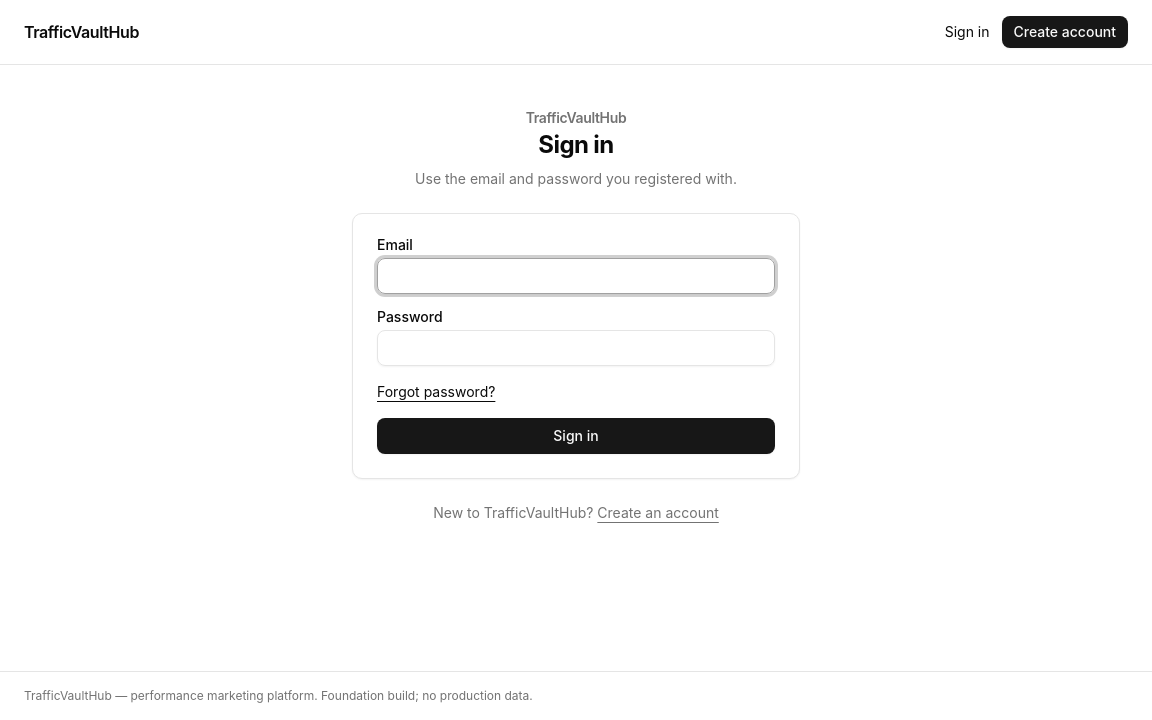
Test case: auth pages › /login › shows the server error for invalid credentials and keeps the user signed out
Type "alice@example.com" into the field labelled "Email" at (576,276), box [377, 258, 775, 294]
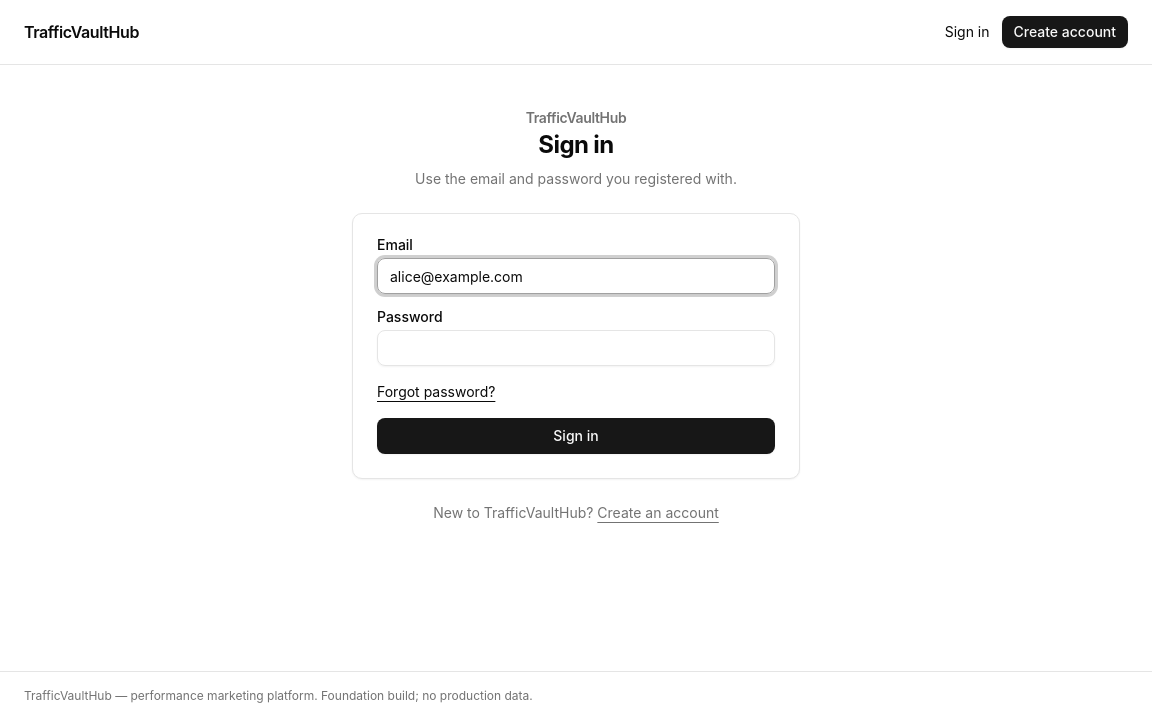
Type "wrong-password" into the password field labelled "Password" at (576,348), box [377, 330, 775, 366]
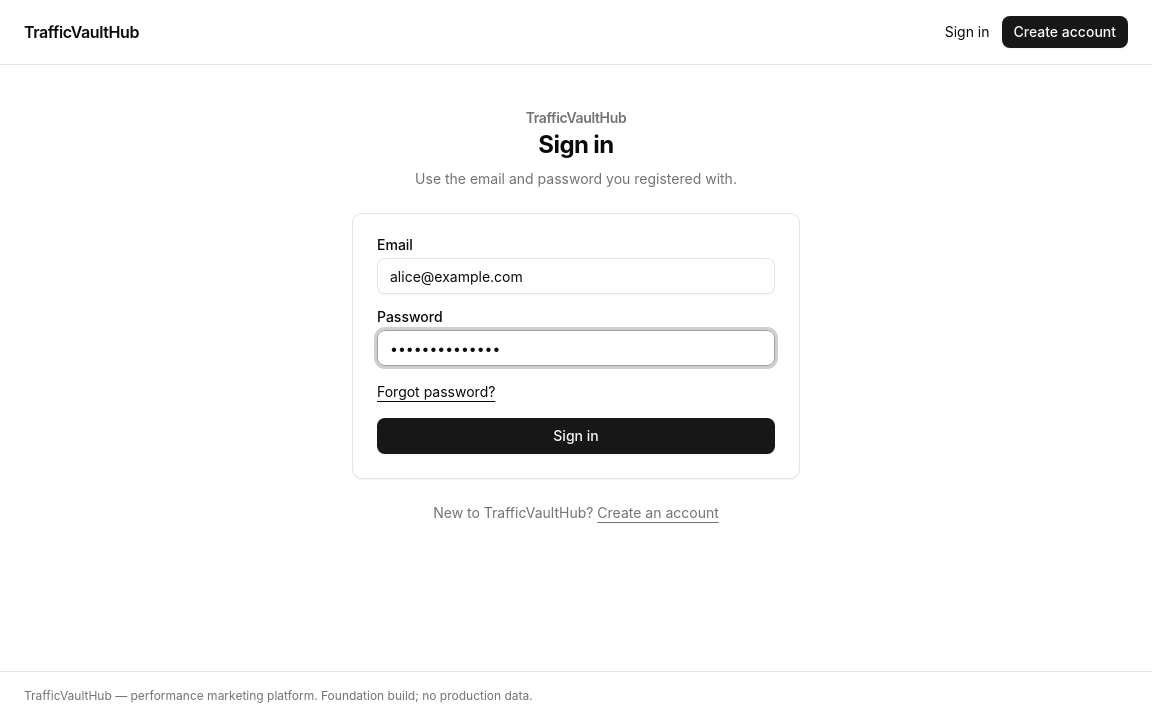
Click the button "Sign in" at (576,436), box [377, 418, 775, 454]
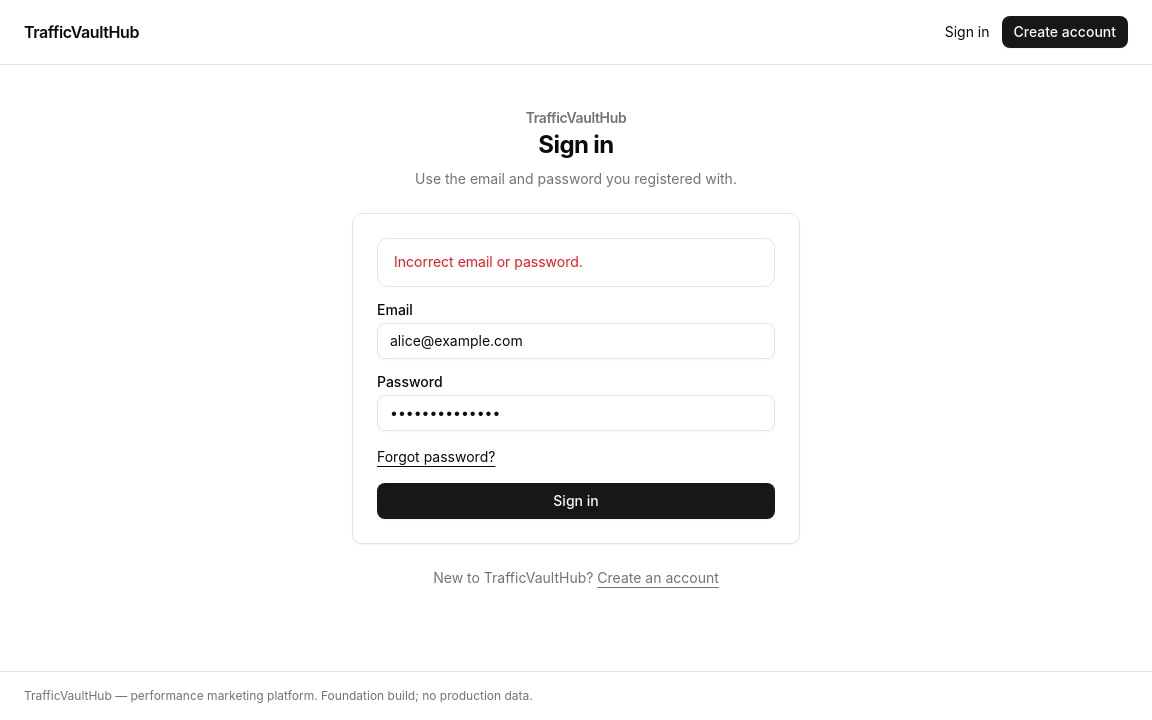
Check: the message reads "Incorrect email or password.", box [394, 253, 583, 270]
